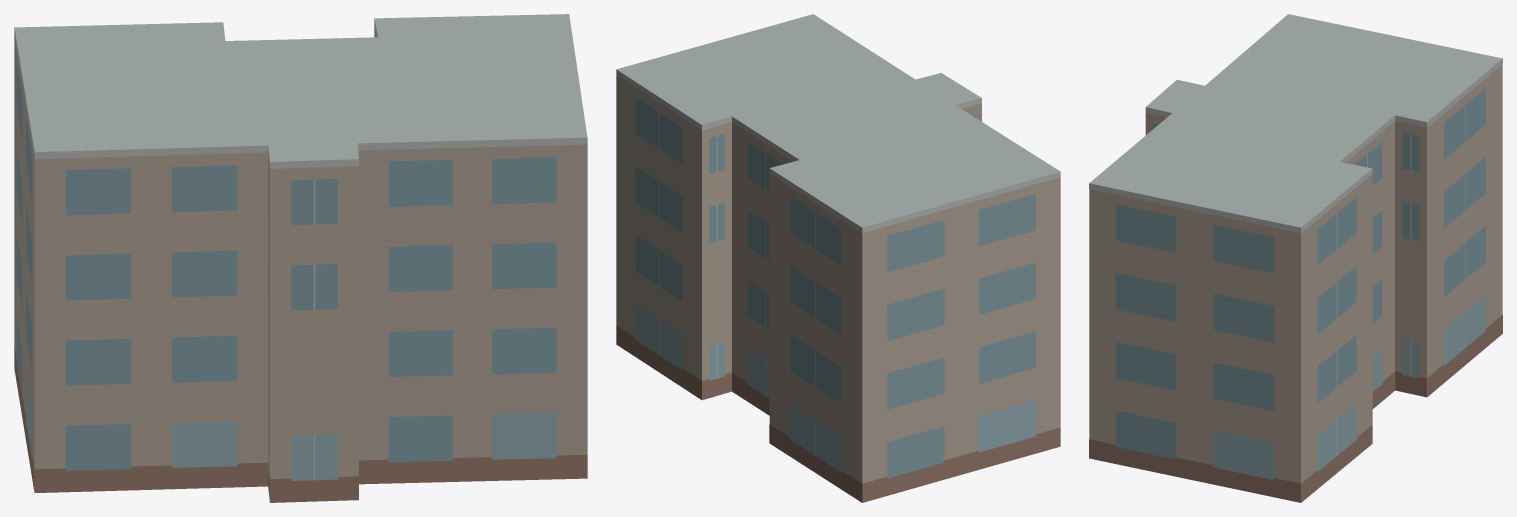
Rendered from survey-upis-32524456.glb.
3 views of the same model, side by side, from view 1: azimuth 30°, elevation 25°; view 2: azimuth 150°, elevation 25°; view 3: azimuth 270°, elevation 25° (orthographic). The views are drawn at different scales.
Parts seen in each view (by area): view 1: survey-upis-32524456.tmp; view 2: survey-upis-32524456.tmp; view 3: survey-upis-32524456.tmp.
Part boxes in pixels (x1,y1,x2,y2): survey-upis-32524456.tmp: (14,14,587,502); survey-upis-32524456.tmp: (616,14,1060,502); survey-upis-32524456.tmp: (1089,14,1502,502).
Bounding box in the file's own units: 19.83 × 11.9 × 16.22.
